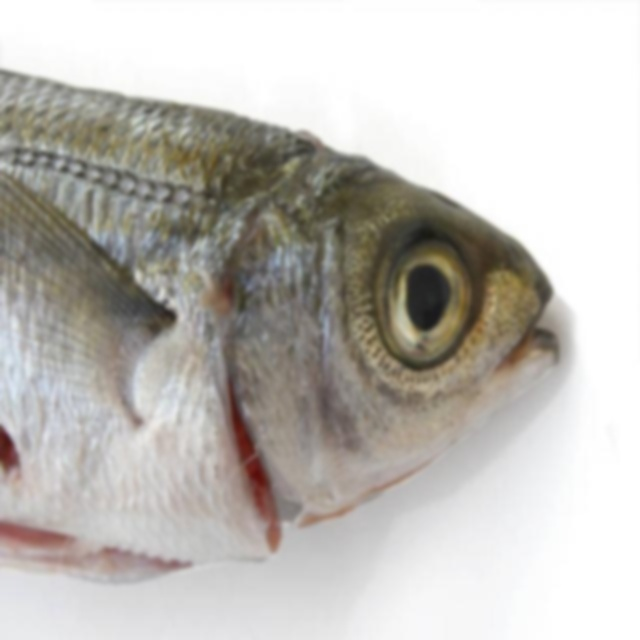Healthy Fish: (2, 47, 558, 601)
